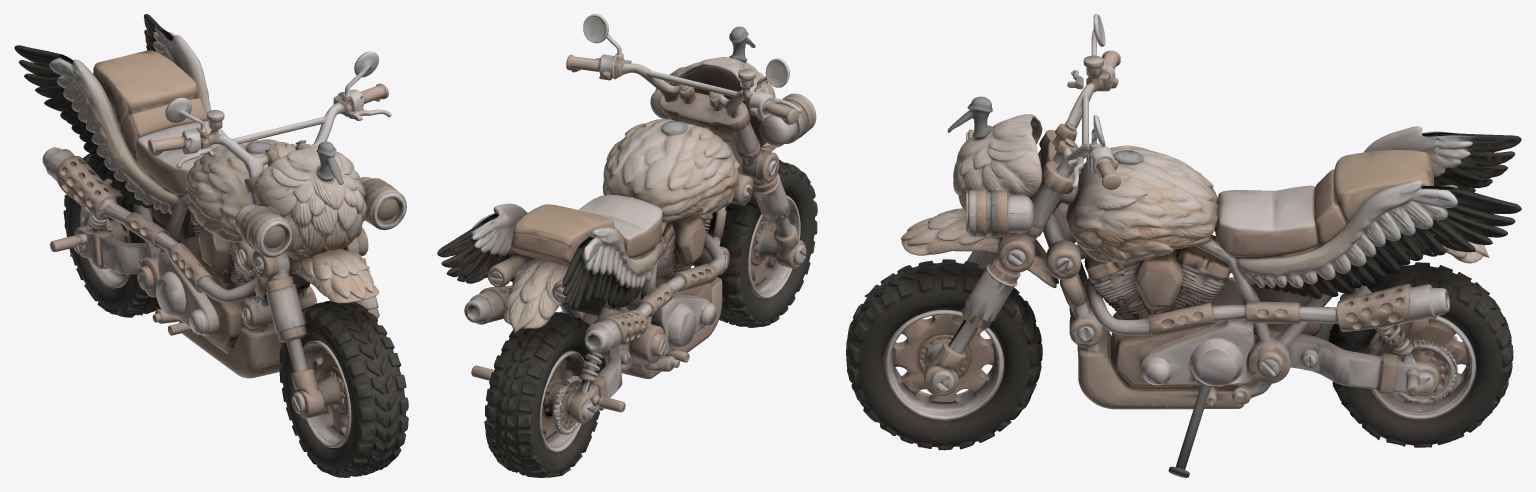
Rendered from moto_jogo.glb.
3 renders of one model, left to right at view 1: azimuth 30°, elevation 25°; view 2: azimuth 150°, elevation 25°; view 3: azimuth 270°, elevation 25°, orthographic. The views are drawn at different scales.
Parts seen in each view (by area): view 1: Carroceria, Guidao, Roda_D, Roda_T; view 2: Carroceria, Guidao, Roda_T, Roda_D; view 3: Carroceria, Guidao, Roda_D, Roda_T, Descanso.
Boxes of the visible parts, box(x1,y1,x2,y2) form: Carroceria: box(14, 14, 317, 378); Guidao: box(148, 51, 406, 418); Roda_D: box(279, 300, 408, 477); Roda_T: box(63, 153, 165, 317); Carroceria: box(437, 119, 753, 433); Guidao: box(566, 14, 816, 268); Roda_T: box(484, 312, 619, 477); Roda_D: box(692, 159, 817, 327); Carroceria: box(1043, 126, 1521, 409); Guidao: box(901, 14, 1120, 396); Roda_D: box(846, 252, 1042, 450); Roda_T: box(1315, 262, 1513, 447); Descanso: box(1168, 384, 1210, 477).
Bounding box in the file's own units: 0.8404 × 1.17 × 1.9.
2 materials, 1 textured.
